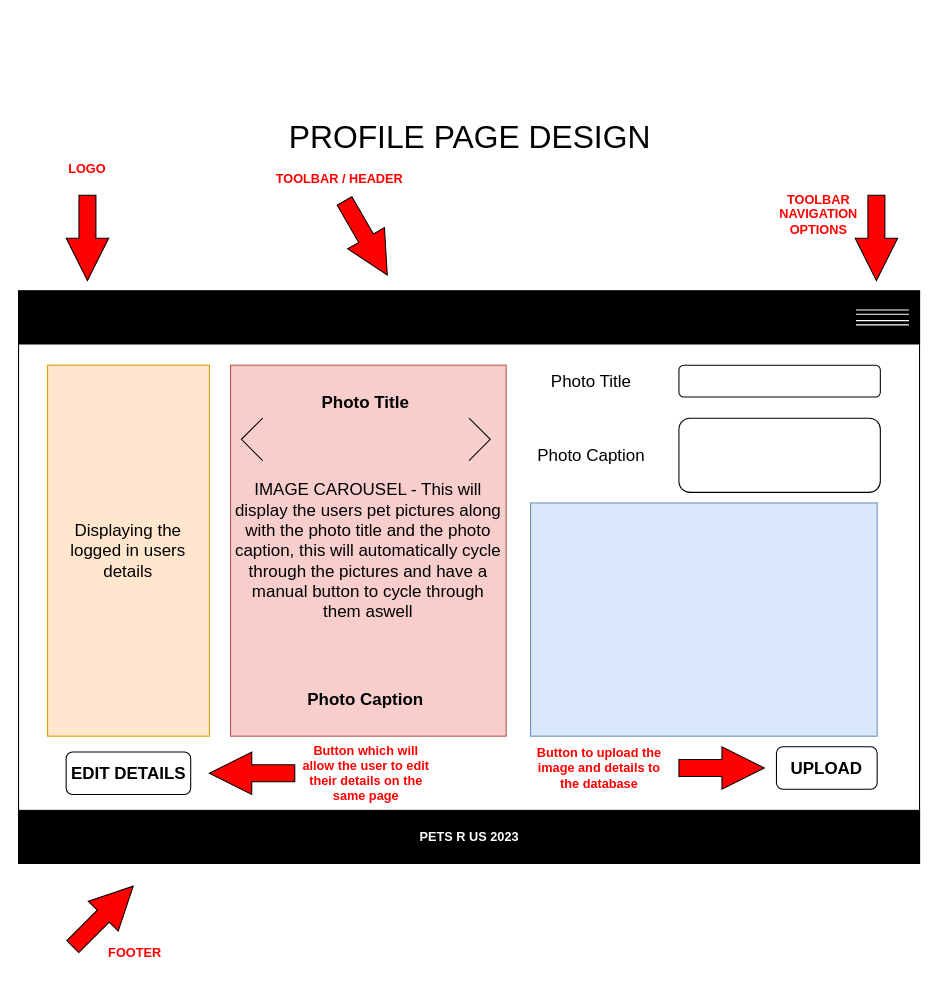
Some shapes in this 938 by 988 pixel diagram are drawn without their labels. The box of each missing label's shape, as (x1, y1, x2, y2) in pixels:
IMAGE UPLOADER - A box for users to upload an image of their pet.: (529, 502, 877, 736)
PETS R US: (17, 290, 920, 344)
